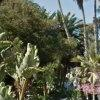Palm tree: (19, 7, 97, 62)
